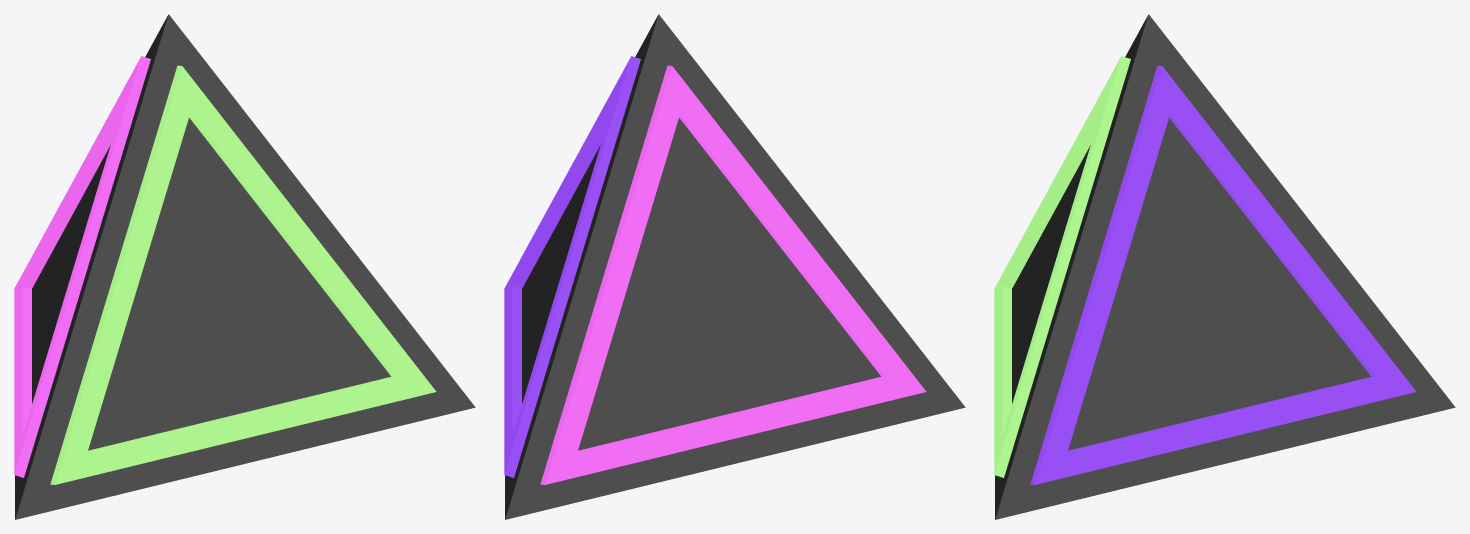
Rendered from tetrahedron.gltf.
3 renders of one model, left to right at view 1: azimuth 30°, elevation 25°; view 2: azimuth 150°, elevation 25°; view 3: azimuth 270°, elevation 25°, orthographic.
Parts seen in each view (by area): view 1: TetrahedronHybrid; view 2: TetrahedronHybrid; view 3: TetrahedronHybrid.
Boxes of the visible parts, <box> form: TetrahedronHybrid: <box>14,14,475,519</box>; TetrahedronHybrid: <box>504,14,965,519</box>; TetrahedronHybrid: <box>994,14,1455,519</box>.
Bounding box in the file's own units: 1 × 0.8359 × 0.8677.
